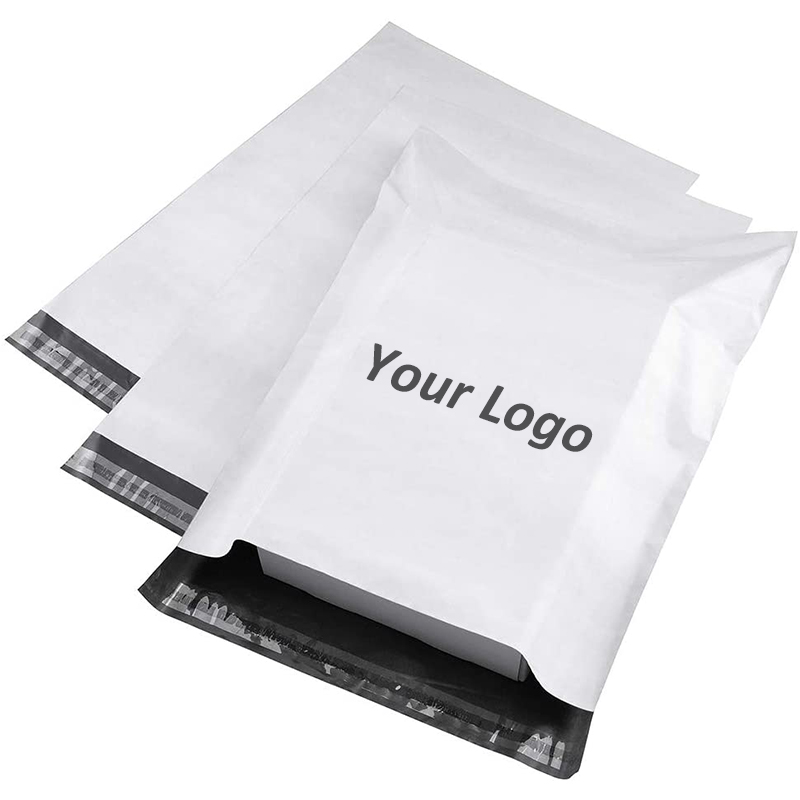塑料袋: (64, 28, 780, 776)
